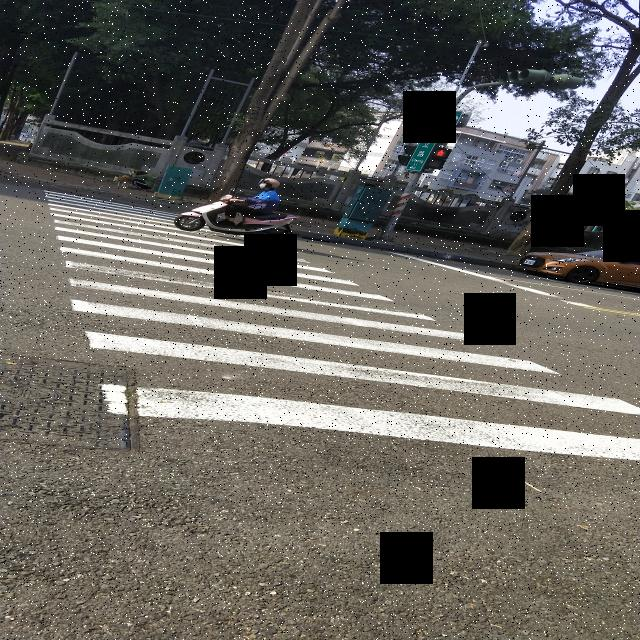zebra_crossing: (128, 108, 389, 322), (0, 0, 96, 400)
